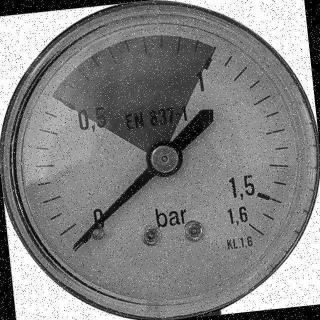gauge: (0, 0, 320, 320), (231, 206, 269, 244), (70, 213, 106, 253), (146, 140, 183, 178), (209, 41, 221, 55), (68, 244, 78, 254)
